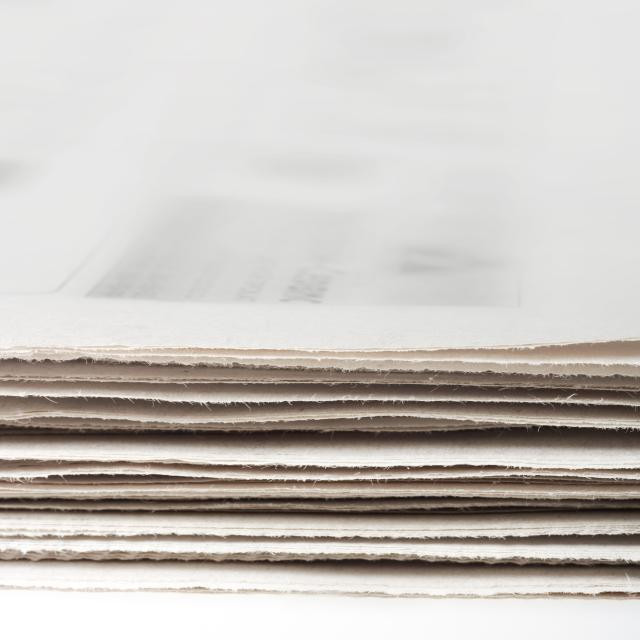paper: (37, 326, 599, 574)
